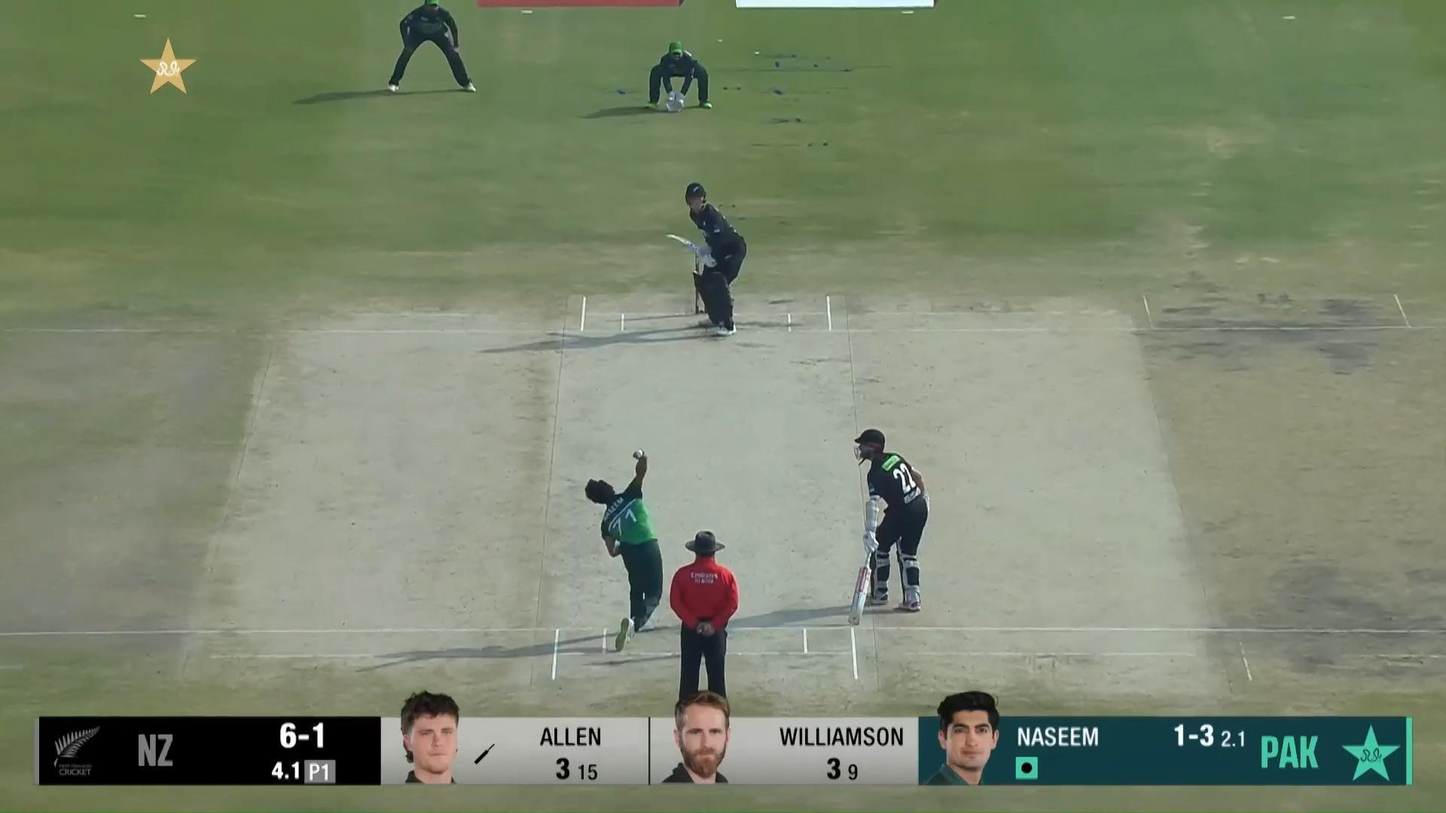BM 1: (665, 181, 747, 338)
BO: (585, 452, 662, 652)
